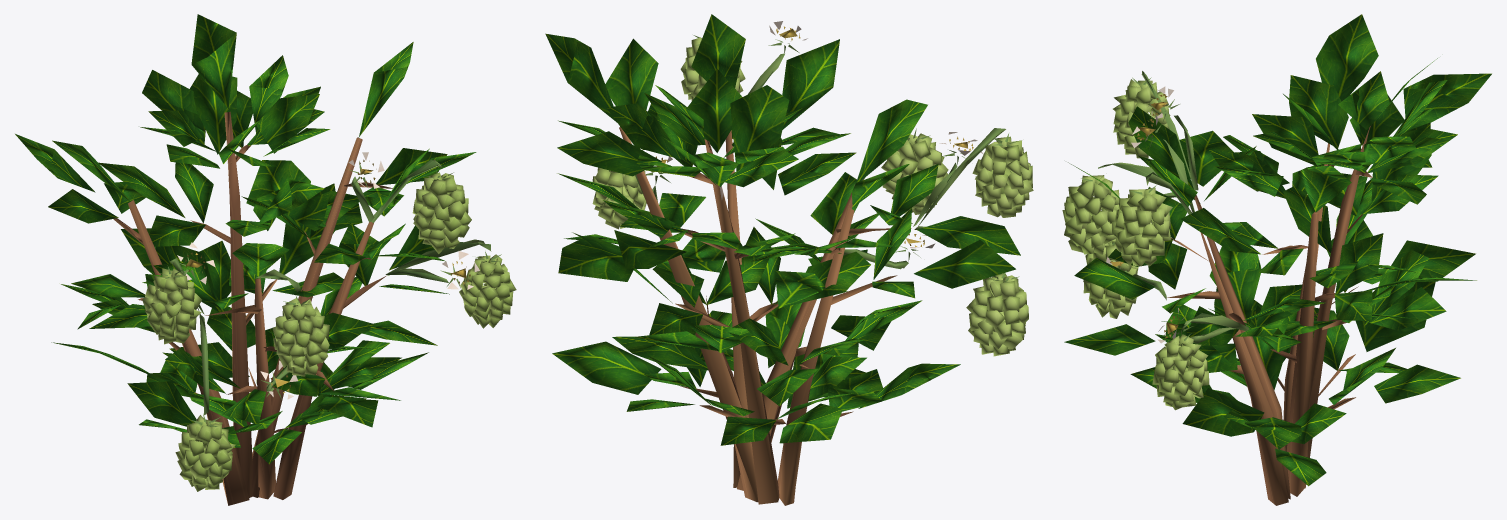
Rendered from NP_Blackberry_Flowering_LOD1.fbx.
The picture shows the model from 3 angles, left to right: view 1: azimuth 30°, elevation 25°; view 2: azimuth 150°, elevation 25°; view 3: azimuth 270°, elevation 25°; orthographic projection. The views are drawn at different scales.
Parts seen in each view (by area): view 1: NP_Blackberry_Flowering; view 2: NP_Blackberry_Flowering; view 3: NP_Blackberry_Flowering.
Boxes of the visible parts, <box> form: NP_Blackberry_Flowering: <box>15,14,516,505</box>; NP_Blackberry_Flowering: <box>545,14,1033,505</box>; NP_Blackberry_Flowering: <box>1062,14,1491,505</box>.
Size of the model in its own units: 75.58 by 74.98 by 65.49.
